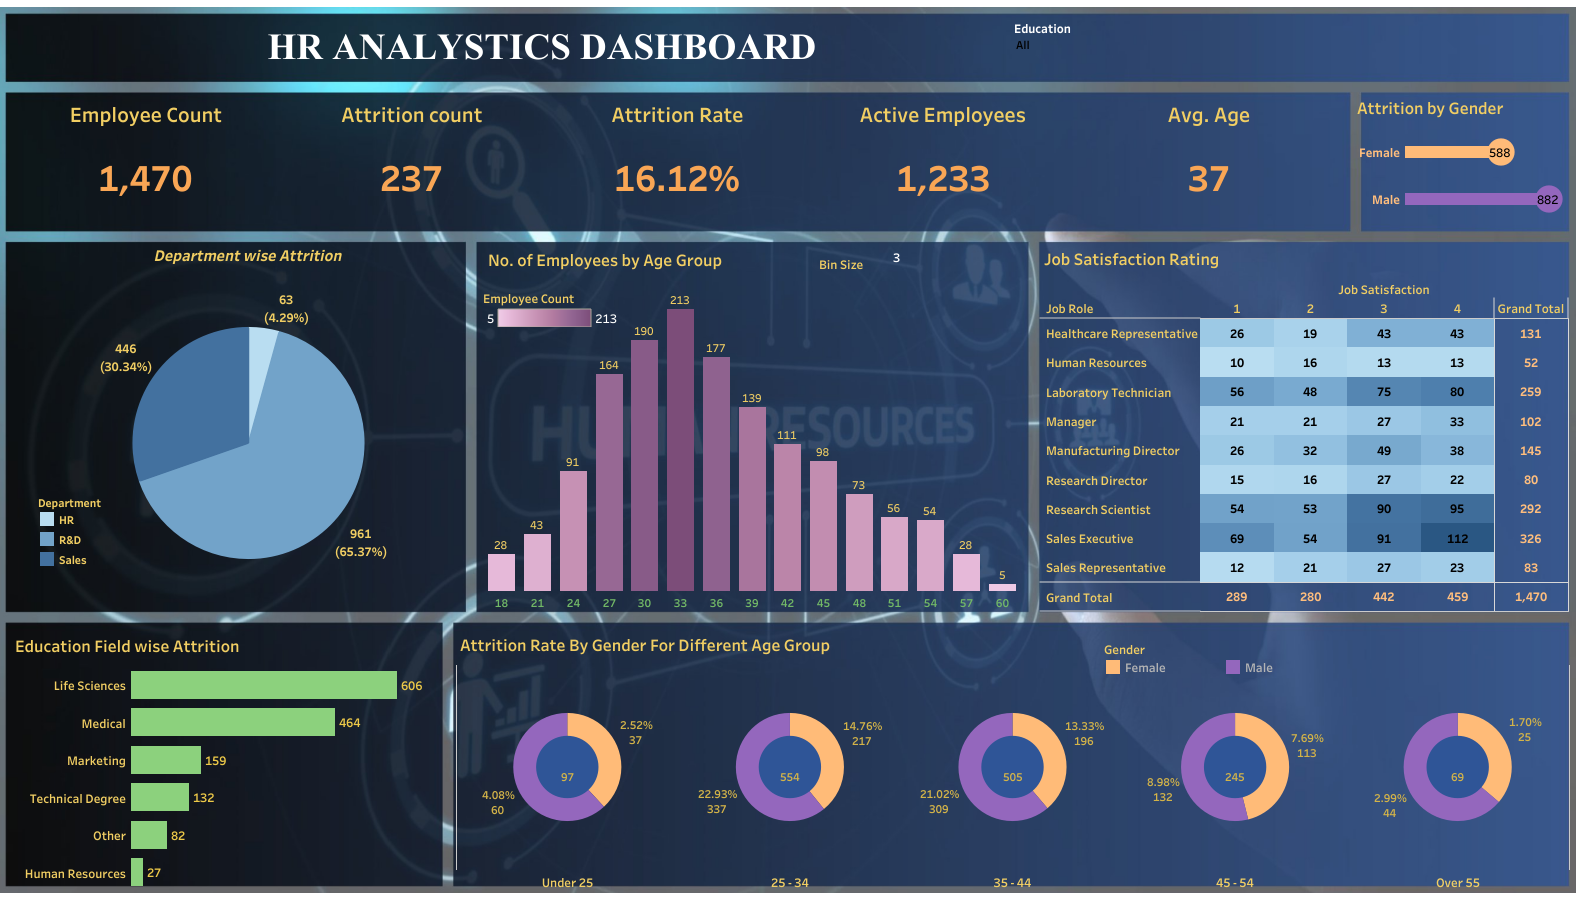

The dashboard page shown, as its layout file describes it:
{"tool":"tableau","page":{"name":"HR ANALYSTICS DASHBOARD","canvas":[1580,900],"ordinal":0},"visuals":[{"type":"text","box":[20.9,10,973.4,59.8]},{"type":"filter","title":"Department wise Attrition","param":"[federated.0ad07et0swfsj91403a8u1a5qkoy].[none:Education:nk]","box":[874.4,11.4,318,57]},{"type":"worksheet","title":"KPI","mark":"Automatic","box":[12.5,88.3,1329.9,136.7]},{"type":"worksheet","title":"Attrition by Gender","mark":"Automatic","rows":["Gender"],"cols":["Attrition","Attrition"],"box":[1353.5,89.7,216.8,132.4]},{"type":"worksheet","title":"Department wise Attrition","mark":"Pie","box":[24.6,237.8,447.3,374.5]},{"type":"worksheet","title":"Job Satisfaction Rating","mark":"Square","rows":["Job Role"],"cols":["Job Satisfaction"],"box":[1040.3,240.7,528.5,371.7]},{"type":"worksheet","title":"No. of Employees by Age Group","mark":"Automatic","rows":["Employee Count"],"cols":["Age (bin)"],"box":[484.3,242.1,536.2,368.8]},{"type":"parameter","param":"[Parameters].[Parameter 1]","box":[819.4,247.8,201.1,31.3]},{"type":"legend","title":"No. of Employees by Age Group","param":"[federated.0ad07et0swfsj91403a8u1a5qkoy].[sum:Employee Count:qk]","box":[483,285,139,42]},{"type":"legend","title":"Department wise Attrition","param":"[federated.0ad07et0swfsj91403a8u1a5qkoy].[none:Department:nk]","box":[36.9,492.7,131.3,112.5]},{"type":"worksheet","title":"Attrition Rate By Gender For Different Age Group","mark":"Pie","rows":["Calculation_52354351125463041","Calculation_52354351125463041"],"cols":["CF_age band"],"box":[456,626.6,1114.2,264.9]},{"type":"worksheet","title":"Education Field wise Attrition","mark":"Automatic","rows":["Education Field"],"cols":["Attrition"],"box":[11.2,628,429.5,263.4]},{"type":"legend","title":"Attrition Rate By Gender For Different Age Group","param":"[federated.0ad07et0swfsj91403a8u1a5qkoy].[none:Gender:nk]","box":[1103.1,638,460.2,42.7]}]}

Visuals, with their boxes in screenshot pixels (x1, y1, x2, y2), scaled from the page's 1580x900 canvas onto the 1579x899 screenshot:
text: (21, 10, 994, 70)
"Department wise Attrition" filter: (874, 11, 1192, 68)
"KPI" worksheet: (12, 88, 1342, 225)
"Attrition by Gender" worksheet: (1353, 90, 1569, 222)
"Department wise Attrition" worksheet (Pie marks): (25, 238, 472, 612)
"Job Satisfaction Rating" worksheet (Square marks): (1040, 240, 1568, 612)
"No. of Employees by Age Group" worksheet: (484, 242, 1020, 610)
parameter: (819, 248, 1020, 279)
"No. of Employees by Age Group" legend: (483, 285, 622, 327)
"Department wise Attrition" legend: (37, 492, 168, 605)
"Attrition Rate By Gender For Different Age Group" worksheet (Pie marks): (456, 626, 1569, 891)
"Education Field wise Attrition" worksheet: (11, 627, 440, 890)
"Attrition Rate By Gender For Different Age Group" legend: (1102, 637, 1562, 680)
